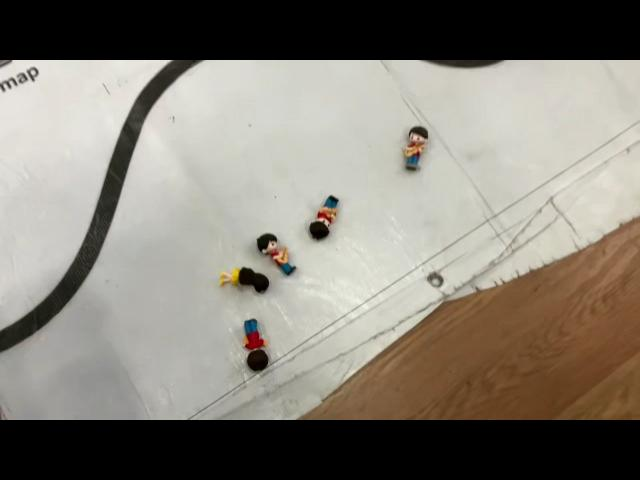man: (258, 229, 298, 279), (306, 192, 342, 244), (398, 120, 430, 176)
woman: (218, 265, 270, 297)
